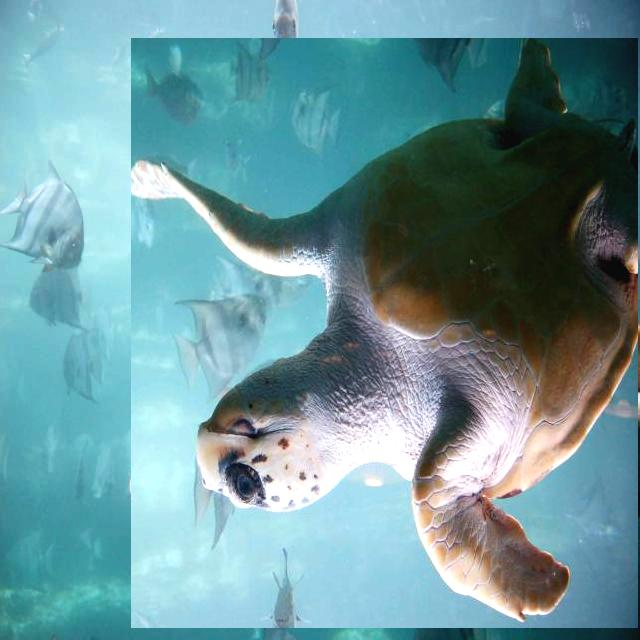Sea turtle: (132, 38, 640, 628)
